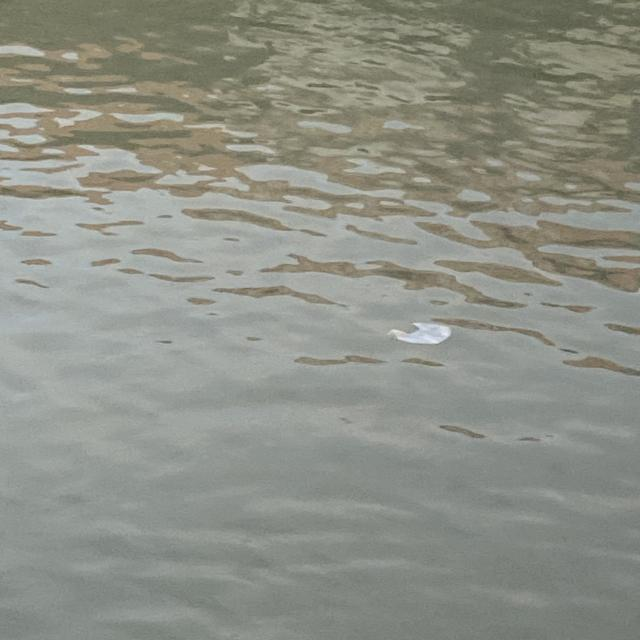Plastic: (382, 312, 454, 351)
